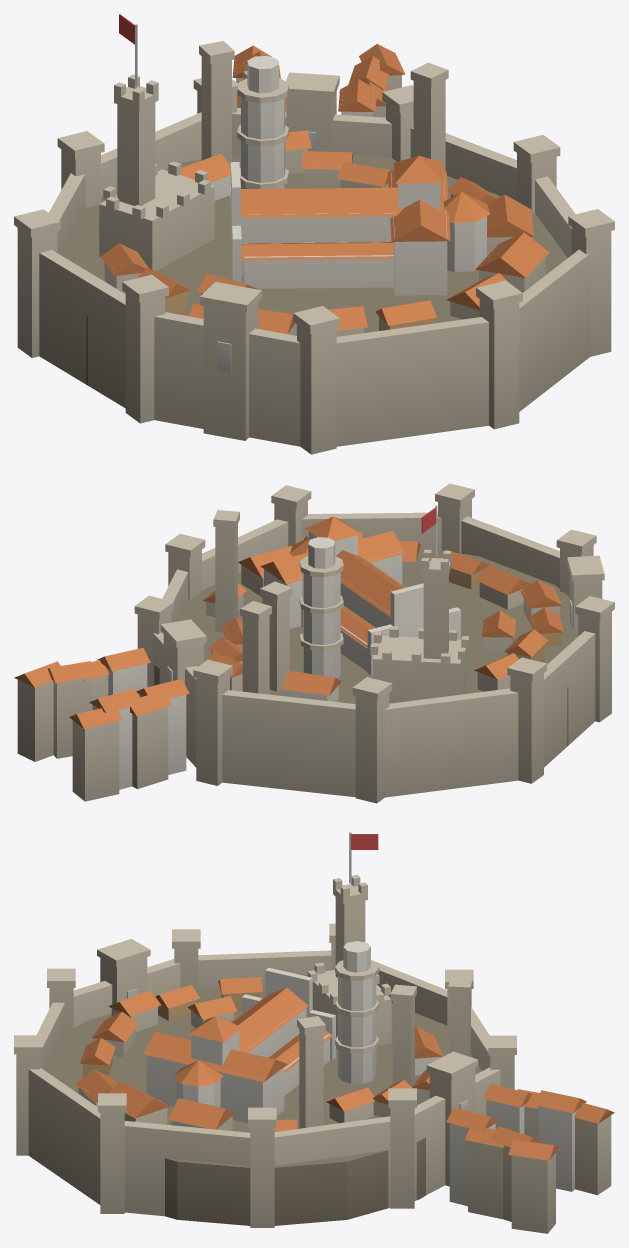
File: city_med_b.glb
The picture shows the model from 3 angles, top to bottom: view 1: azimuth 30°, elevation 25°; view 2: azimuth 150°, elevation 25°; view 3: azimuth 270°, elevation 25°; orthographic projection. The views are drawn at different scales.
Visible parts, largest first — view 1: city_med_b; view 2: city_med_b; view 3: city_med_b.
Boxes of the visible parts, bbox=[...] form: city_med_b: bbox=[14, 14, 614, 454]; city_med_b: bbox=[14, 483, 614, 803]; city_med_b: bbox=[14, 832, 614, 1233].
Bounding box in the file's own units: 2.76 × 1.58 × 3.46.
